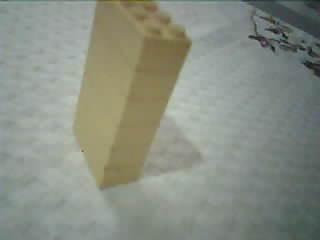lego: (70, 1, 192, 190)
